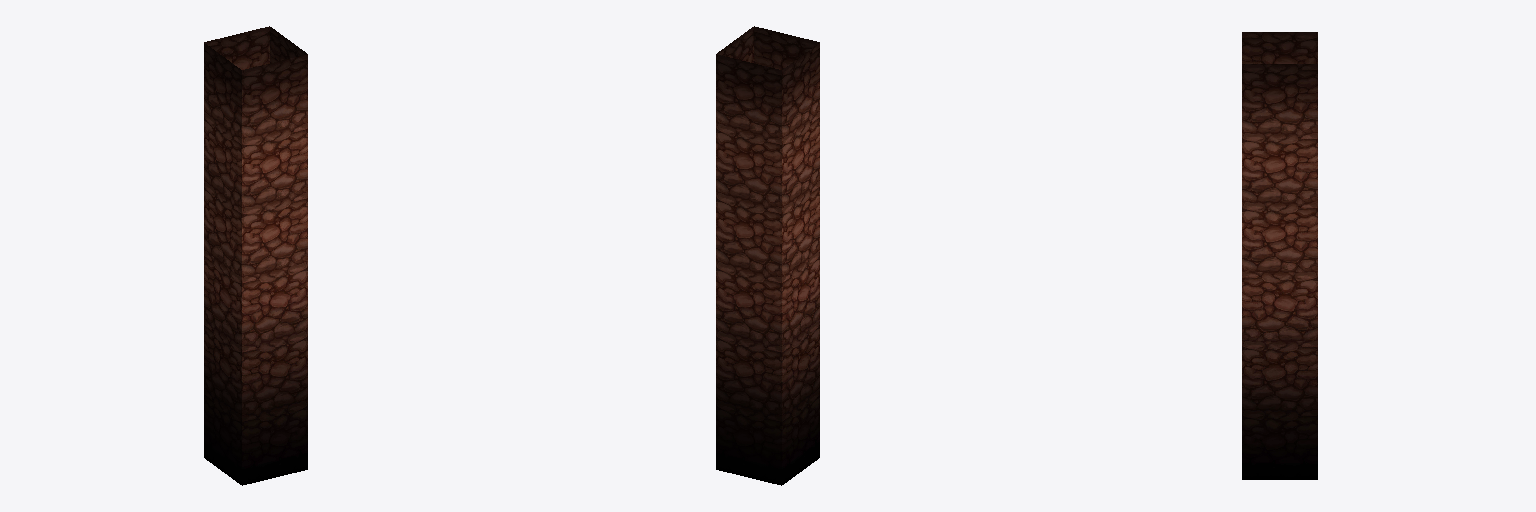
3 renders of one model, left to right at view 1: azimuth 30°, elevation 25°; view 2: azimuth 150°, elevation 25°; view 3: azimuth 270°, elevation 25°, orthographic.
Parts seen in each view (by area): view 1: Wall:group2 Wall:pCube8 Wall:polySurface58 Wall:polySurface79 Wa, Wall:polySurface84 Wall:polySurface1 polySurface3, Wall:polySurface14 Wall:polySurface1 polySurface7, Wall:group4 Wall:pCube6 Wall:polySurface58 Wall:polySurface71 Wa, Wall:polySurface85 Wall:polySurface1 polySurface11, Wall:group3 Wall:pCube7 Wall:polySurface58 Wall:polySurface75 Wa, Wall:polySurface85 Wall:polySurface1 polySurface10, Wall:polySurface84 Wall:polySurface1 polySurface2, Wall:group4 Wall:pCube12 Wall:polySurface58 Wall:polySurface73 W, Wall:polySurface14 Wall:polySurface1 polySurface6, Wall:group2 Wall:pCube14 Wall:polySurface58 Wall:polySurface81 W, Wall:group3 Wall:pCube13 Wall:polySurface58 Wall:polySurface77 W (+2 smaller); view 2: Wall:group2 Wall:pCube4 Wall:polySurface58 Wall:polySurface78 Wa, Wall:polySurface84 polySurface1 Wall:polySurface1, Wall:polySurface14 Wall:polySurface1 polySurface5, Wall:group4 Wall:pCube2 Wall:polySurface58 Wall:polySurface70 Wa, Wall:polySurface85 Wall:polySurface1 polySurface9, Wall:group3 Wall:pCube3 Wall:polySurface58 Wall:polySurface74 Wa, Wall:polySurface85 Wall:polySurface1 polySurface10, Wall:polySurface84 Wall:polySurface1 polySurface2, Wall:group4 Wall:pCube12 Wall:polySurface58 Wall:polySurface73 W, Wall:polySurface14 Wall:polySurface1 polySurface6, Wall:group2 Wall:pCube14 Wall:polySurface58 Wall:polySurface81 W, Wall:group3 Wall:pCube13 Wall:polySurface58 Wall:polySurface77 W (+2 smaller); view 3: Wall:polySurface84 Wall:polySurface1 polySurface4, Wall:group3 Wall:pCube10 Wall:polySurface58 Wall:polySurface76 W, Wall:polySurface14 Wall:polySurface1 polySurface8, Wall:polySurface85 Wall:polySurface1 polySurface12, Wall:group4 Wall:pCube9 Wall:polySurface58 Wall:polySurface72 Wa, Wall:group2 Wall:pCube8 Wall:polySurface58 Wall:polySurface79 Wa, Wall:polySurface84 Wall:polySurface1 polySurface2.
Part boxes in pixels (left/top/right/bottom): Wall:group2 Wall:pCube8 Wall:polySurface58 Wall:polySurface79 Wa: left=242, top=262, right=307, bottom=346; Wall:polySurface84 Wall:polySurface1 polySurface3: left=242, top=54, right=307, bottom=138; Wall:polySurface14 Wall:polySurface1 polySurface7: left=242, top=124, right=307, bottom=208; Wall:group4 Wall:pCube6 Wall:polySurface58 Wall:polySurface71 Wa: left=242, top=401, right=307, bottom=485; Wall:polySurface85 Wall:polySurface1 polySurface11: left=242, top=193, right=307, bottom=277; Wall:group3 Wall:pCube7 Wall:polySurface58 Wall:polySurface75 Wa: left=242, top=331, right=307, bottom=415; Wall:polySurface85 Wall:polySurface1 polySurface10: left=204, top=181, right=241, bottom=277; Wall:polySurface84 Wall:polySurface1 polySurface2: left=204, top=43, right=241, bottom=138; Wall:group4 Wall:pCube12 Wall:polySurface58 Wall:polySurface73 W: left=204, top=389, right=241, bottom=484; Wall:polySurface14 Wall:polySurface1 polySurface6: left=204, top=112, right=241, bottom=207; Wall:group2 Wall:pCube14 Wall:polySurface58 Wall:polySurface81 W: left=204, top=251, right=241, bottom=346; Wall:group3 Wall:pCube13 Wall:polySurface58 Wall:polySurface77 W: left=204, top=320, right=241, bottom=415; Wall:group2 Wall:pCube4 Wall:polySurface58 Wall:polySurface78 Wa: left=716, top=262, right=781, bottom=346; Wall:polySurface84 polySurface1 Wall:polySurface1: left=716, top=54, right=781, bottom=138; Wall:polySurface14 Wall:polySurface1 polySurface5: left=716, top=124, right=781, bottom=208; Wall:group4 Wall:pCube2 Wall:polySurface58 Wall:polySurface70 Wa: left=716, top=401, right=781, bottom=485; Wall:polySurface85 Wall:polySurface1 polySurface9: left=716, top=193, right=781, bottom=277; Wall:group3 Wall:pCube3 Wall:polySurface58 Wall:polySurface74 Wa: left=716, top=331, right=781, bottom=415; Wall:polySurface85 Wall:polySurface1 polySurface10: left=782, top=181, right=819, bottom=277; Wall:polySurface84 Wall:polySurface1 polySurface2: left=782, top=43, right=819, bottom=138; Wall:group4 Wall:pCube12 Wall:polySurface58 Wall:polySurface73 W: left=782, top=389, right=819, bottom=484; Wall:polySurface14 Wall:polySurface1 polySurface6: left=782, top=112, right=819, bottom=207; Wall:group2 Wall:pCube14 Wall:polySurface58 Wall:polySurface81 W: left=782, top=251, right=819, bottom=346; Wall:group3 Wall:pCube13 Wall:polySurface58 Wall:polySurface77 W: left=782, top=320, right=819, bottom=415; Wall:polySurface84 Wall:polySurface1 polySurface4: left=1242, top=64, right=1317, bottom=133; Wall:group3 Wall:pCube10 Wall:polySurface58 Wall:polySurface76 W: left=1242, top=341, right=1317, bottom=410; Wall:polySurface14 Wall:polySurface1 polySurface8: left=1242, top=134, right=1317, bottom=202; Wall:polySurface85 Wall:polySurface1 polySurface12: left=1242, top=203, right=1317, bottom=271; Wall:group4 Wall:pCube9 Wall:polySurface58 Wall:polySurface72 Wa: left=1242, top=411, right=1317, bottom=479; Wall:group2 Wall:pCube8 Wall:polySurface58 Wall:polySurface79 Wa: left=1242, top=272, right=1317, bottom=340; Wall:polySurface84 Wall:polySurface1 polySurface2: left=1242, top=32, right=1317, bottom=63.
Bounding box in the file's own units: 2 × 12 × 2.
5 materials, 5 textured.